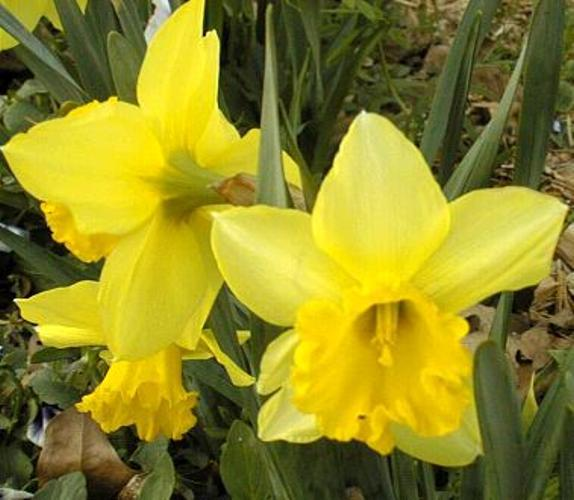flower1: (210, 112, 571, 468), (2, 1, 283, 255), (16, 279, 205, 448)
